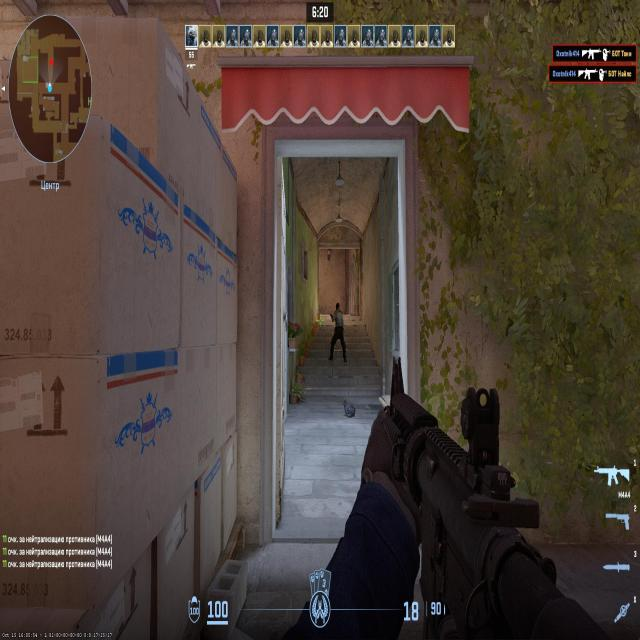T: (333, 304, 344, 339)
T_heat: (336, 303, 339, 311)
